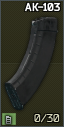AK-103 7.62x39 30-round magazine: (0, 0, 64, 127)
